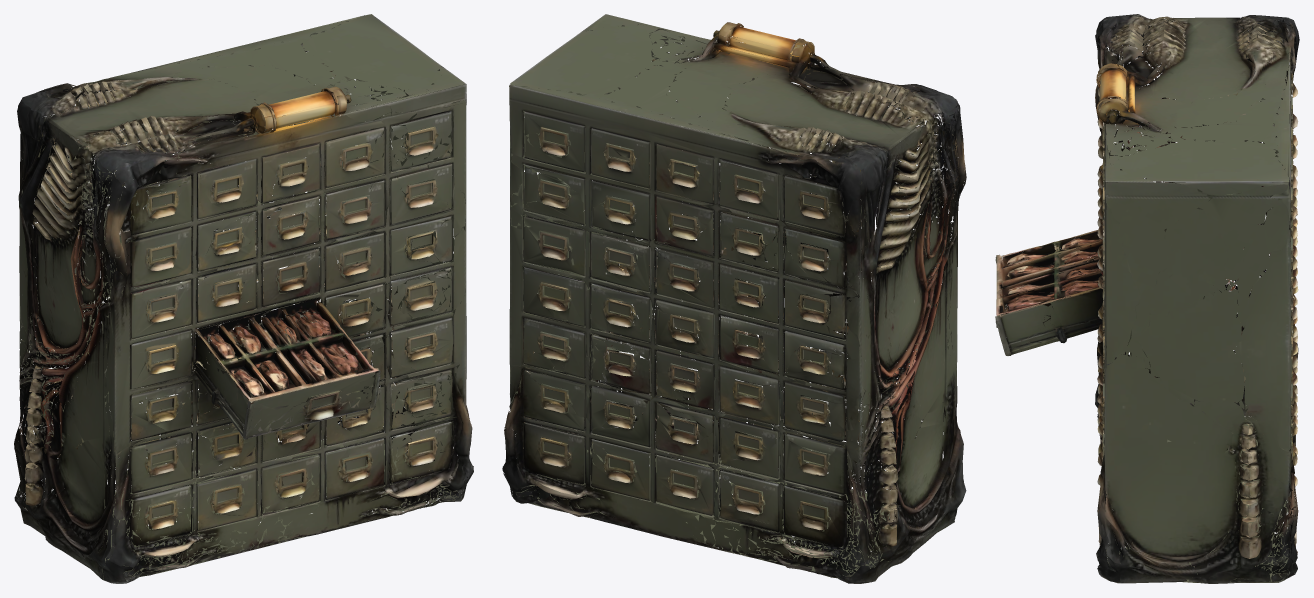
File: vesper_dogtag_retrieval_crypt.glb
3 views of the same model, side by side, from view 1: azimuth 30°, elevation 25°; view 2: azimuth 150°, elevation 25°; view 3: azimuth 270°, elevation 25° (orthographic). The views are drawn at different scales.
Parts seen in each view (by area): view 1: node_0; view 2: node_0; view 3: node_0.
Boxes of the visible parts, x1=… form: node_0: x1=14, y1=14, x2=473, y2=583; node_0: x1=502, y1=14, x2=966, y2=583; node_0: x1=995, y1=14, x2=1299, y2=583.
Size of the model in its own units: 0.7543 by 0.8414 by 0.5473.
1 material, 1 textured.
